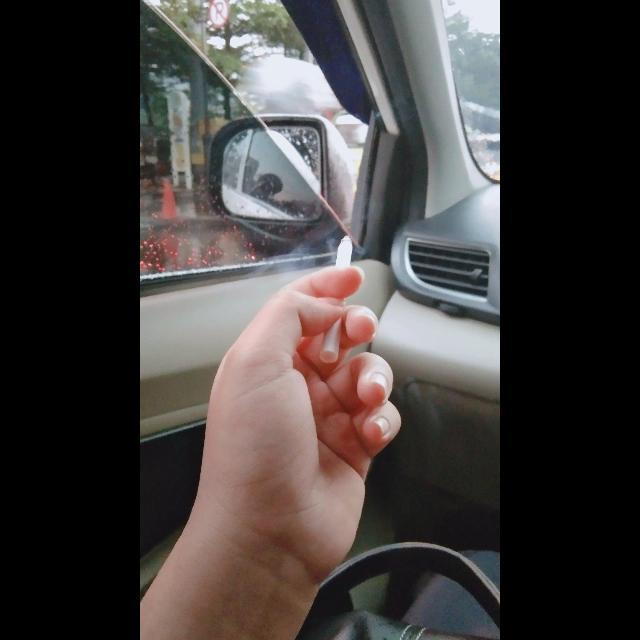rokok: (318, 224, 356, 364)
